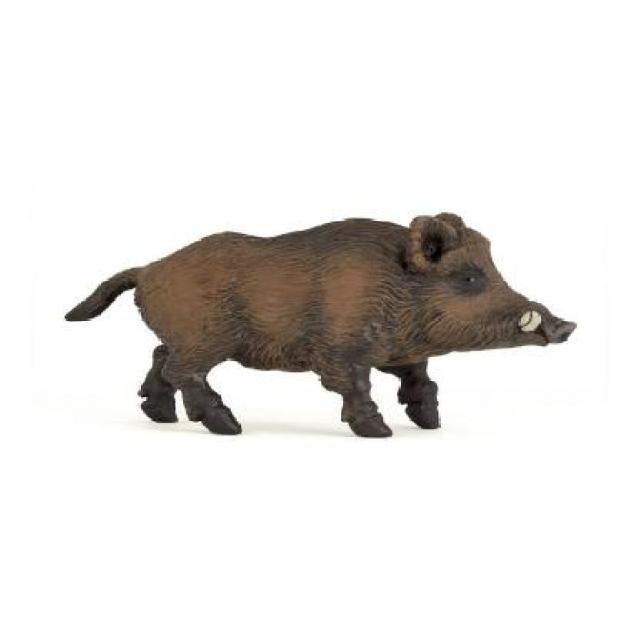wildboar: (55, 203, 583, 445)
